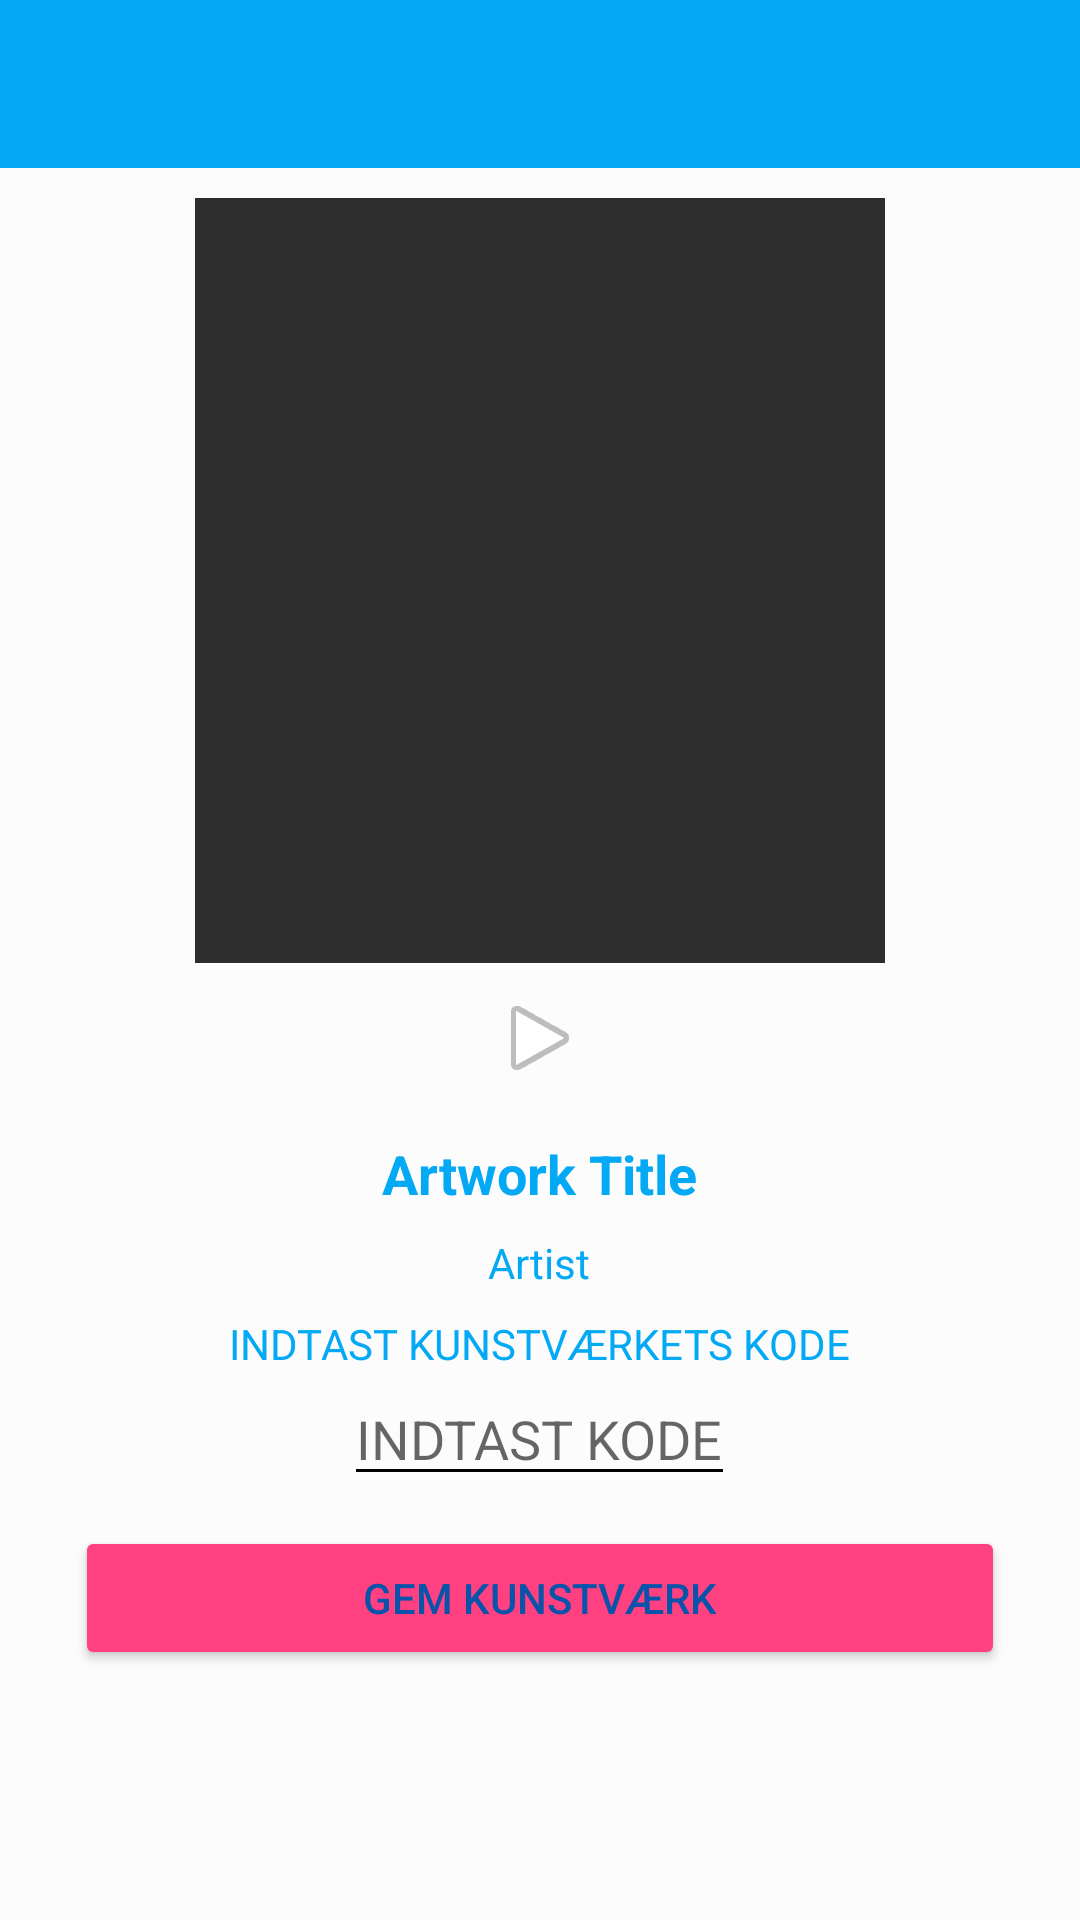

Screen size 1080*1920. Icon name, then its box in pixels as (x1, y1, x2, y2):
play: (511, 1006, 569, 1070)
